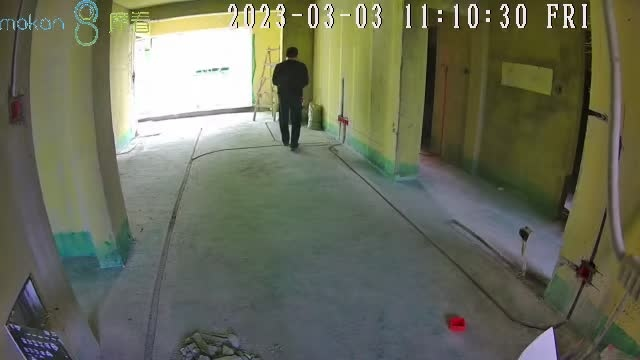people: (272, 47, 310, 152)
window: (130, 29, 255, 120)
